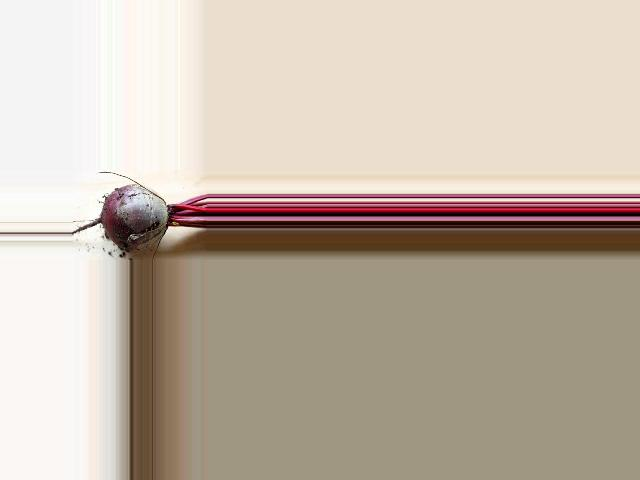beet: (70, 171, 206, 251)
